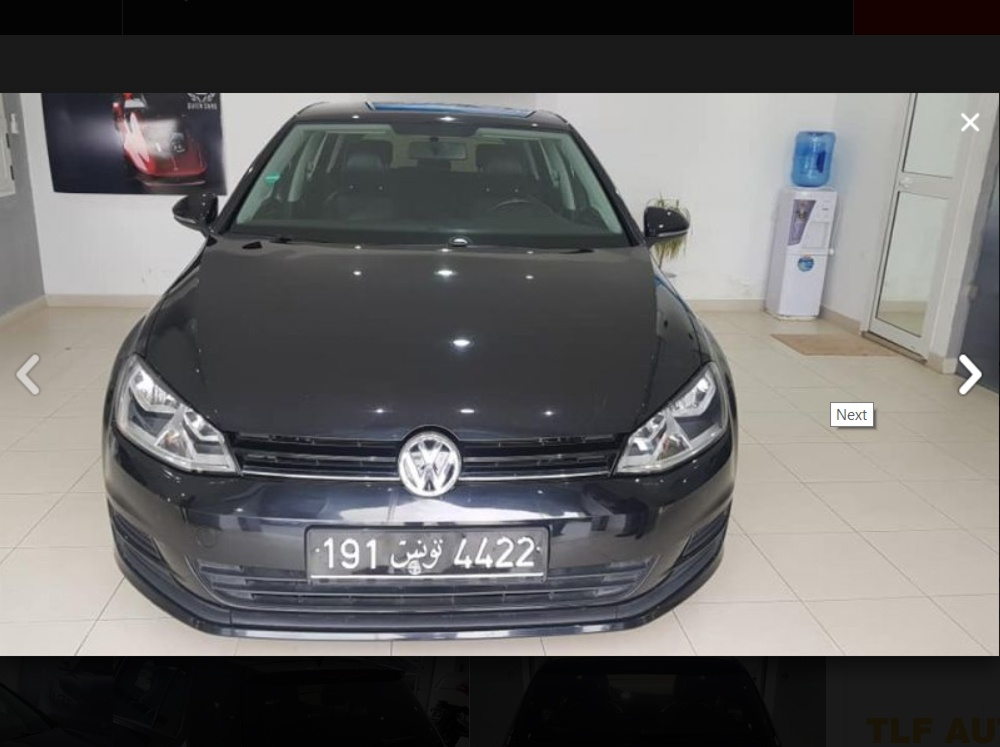LP: (305, 522, 551, 586)
